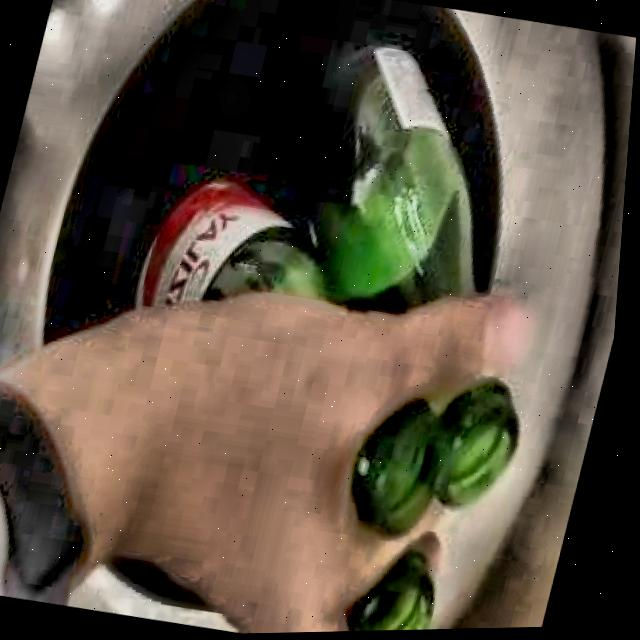glass: (140, 46, 478, 315), (357, 381, 524, 538), (355, 555, 442, 633)
